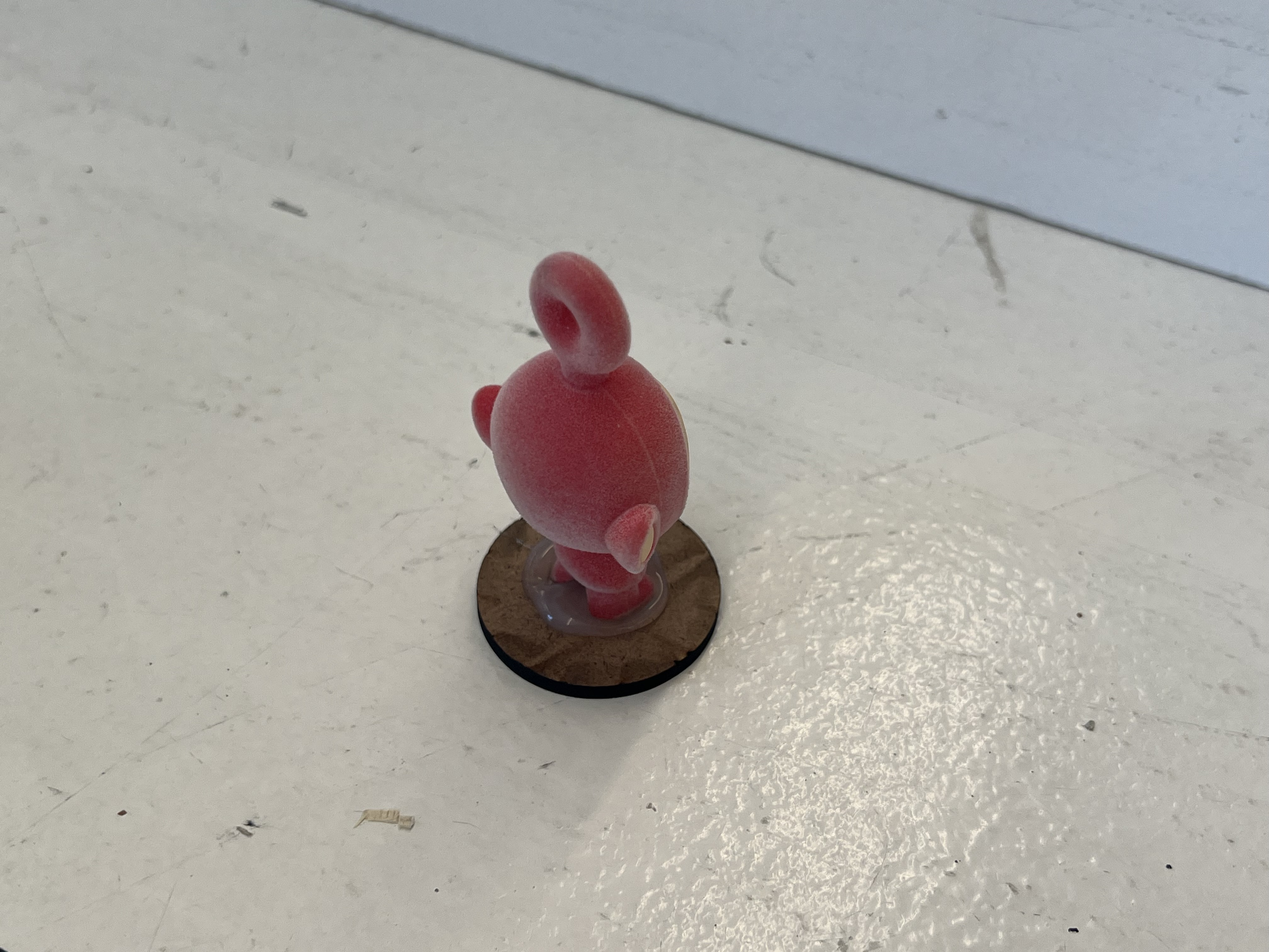teletubby: (472, 252, 689, 620)
